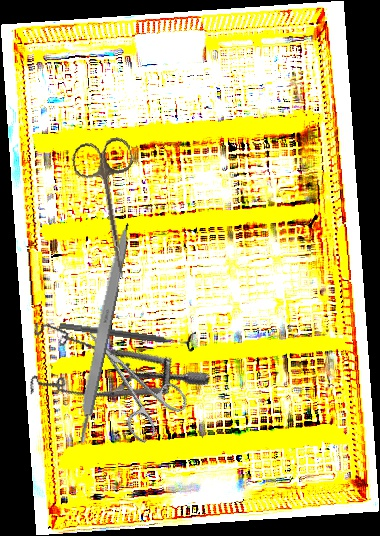Fixation Ring: (58, 314, 196, 354)
Iris Scissors: (68, 309, 193, 446), (69, 135, 155, 284)
Scalpel Handle: (71, 221, 133, 446)
Speculum: (6, 270, 214, 445)
